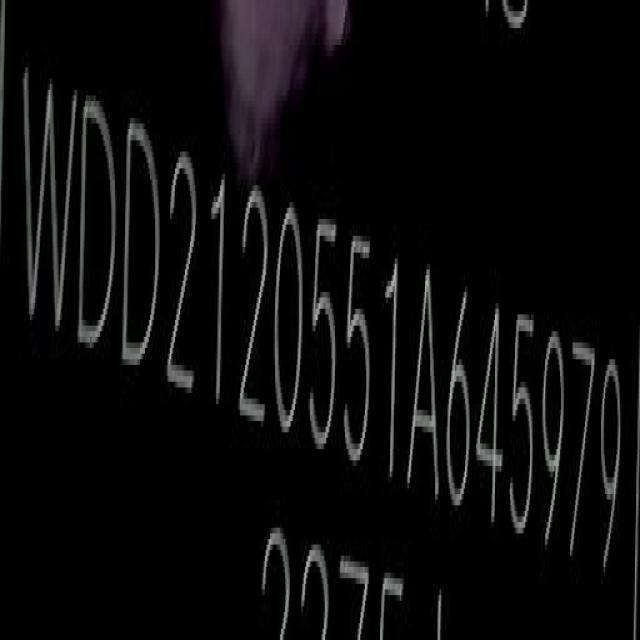0: (276, 198, 303, 448)
1: (212, 163, 230, 419), (385, 243, 403, 497)
2: (168, 143, 202, 400), (238, 178, 269, 438)
4: (478, 294, 504, 530)
5: (310, 205, 340, 466), (346, 219, 374, 478), (510, 304, 537, 545)
6: (446, 276, 474, 521)
7: (572, 329, 595, 578)
9: (543, 320, 567, 560), (601, 343, 623, 583)
A: (412, 262, 440, 506)
D: (82, 93, 120, 354), (125, 121, 163, 376)
W: (23, 65, 76, 343)
